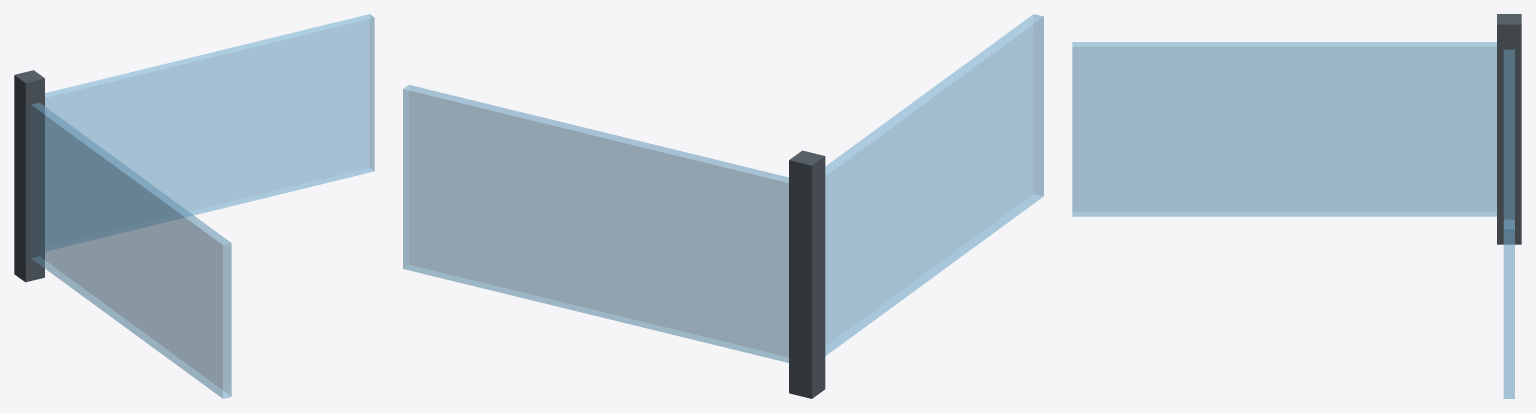
File: window.corner_glass_left.glb
3 views of the same model, side by side, from view 1: azimuth 30°, elevation 25°; view 2: azimuth 150°, elevation 25°; view 3: azimuth 270°, elevation 25° (orthographic). The views are drawn at different scales.
Parts seen in each view (by area): view 1: glass_a, glass_b, corner_post; view 2: glass_a, glass_b, corner_post; view 3: glass_b, corner_post, glass_a.
Part boxes in pixels (x1,y1,x2,y2): glass_a: [45, 14, 374, 251]; glass_b: [31, 103, 231, 398]; corner_post: [14, 70, 44, 282]; glass_a: [403, 85, 788, 362]; glass_b: [825, 14, 1043, 355]; corner_post: [789, 150, 825, 398]; glass_b: [1072, 42, 1496, 216]; corner_post: [1497, 14, 1521, 244]; glass_a: [1503, 50, 1514, 398].
Size of the model in its own units: 3.24 by 1.75 by 3.24.
